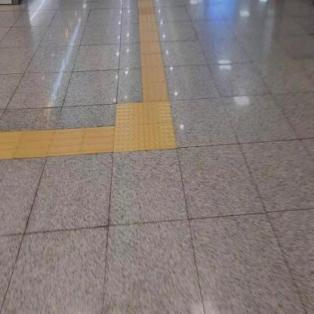Podoctatil: (104, 88, 185, 171), (0, 125, 115, 161), (136, 0, 168, 101)
